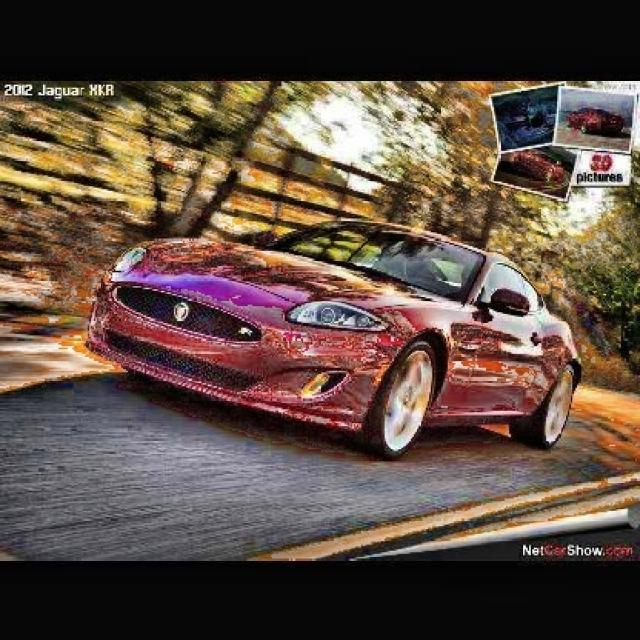maroon: (72, 198, 563, 456)
